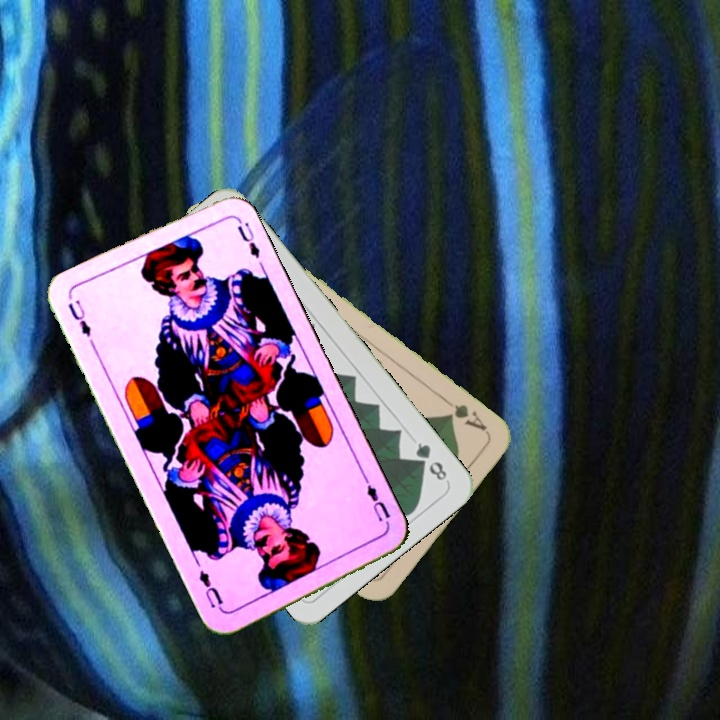EU: (360, 474, 393, 530), (63, 295, 94, 340)
G8: (411, 438, 450, 484)
GA: (439, 393, 490, 434)
